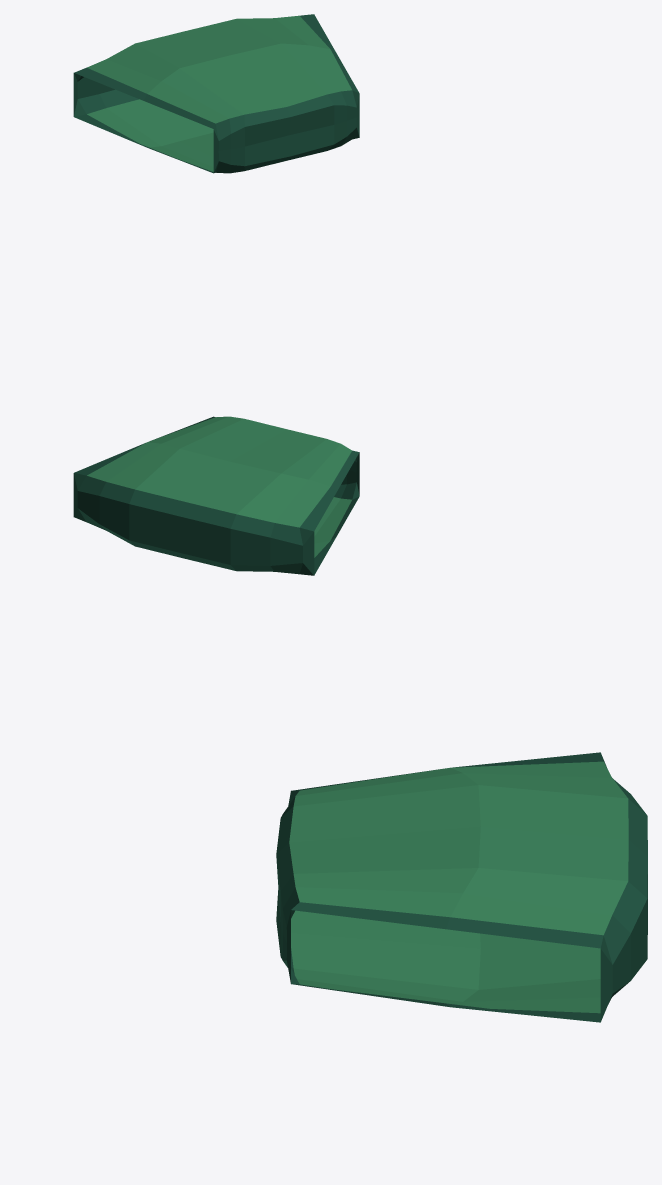
The model's file is Boomerang.fbx.
The picture shows the model from 3 angles, top to bottom: view 1: azimuth 30°, elevation 25°; view 2: azimuth 150°, elevation 25°; view 3: azimuth 270°, elevation 25°; orthographic projection. The views are drawn at different scales.
Visible parts, largest first — view 1: Boomerang; view 2: Boomerang; view 3: Boomerang.
Part boxes in pixels (bbox=[...]): Boomerang: bbox=[73, 14, 359, 173]; Boomerang: bbox=[73, 416, 359, 575]; Boomerang: bbox=[276, 752, 647, 1022].
Bounding box in the file's own units: 44.66 × 5.16 × 24.31.
